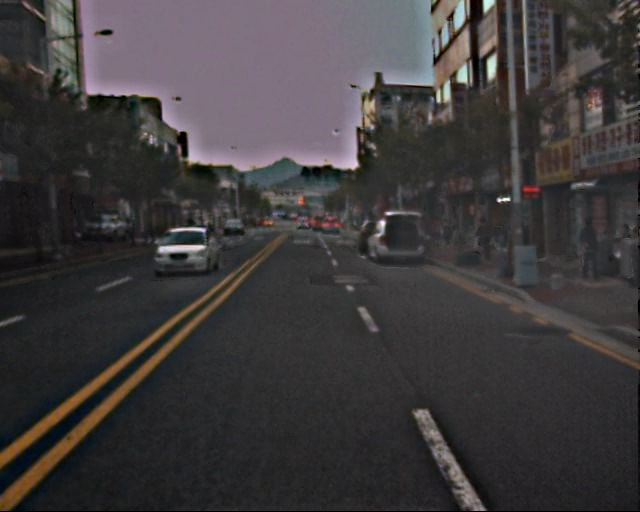person: (574, 215, 602, 282), (616, 220, 640, 283), (478, 217, 498, 265), (427, 213, 441, 246), (441, 217, 453, 247)
